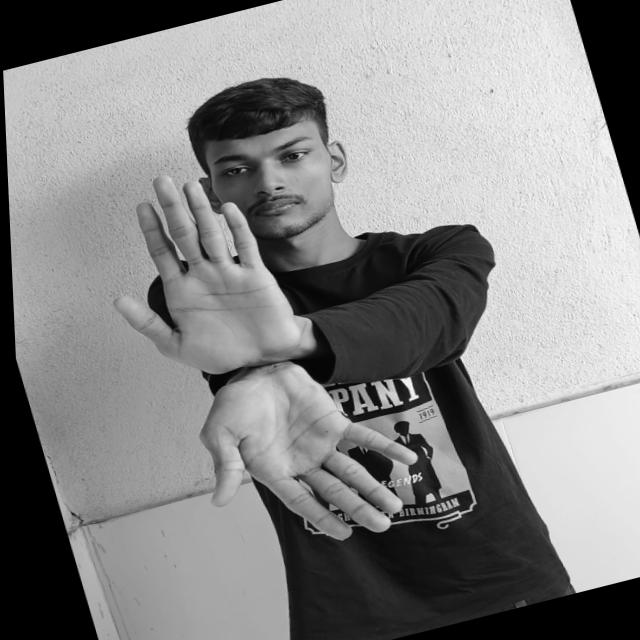Morning: (76, 130, 443, 587)
